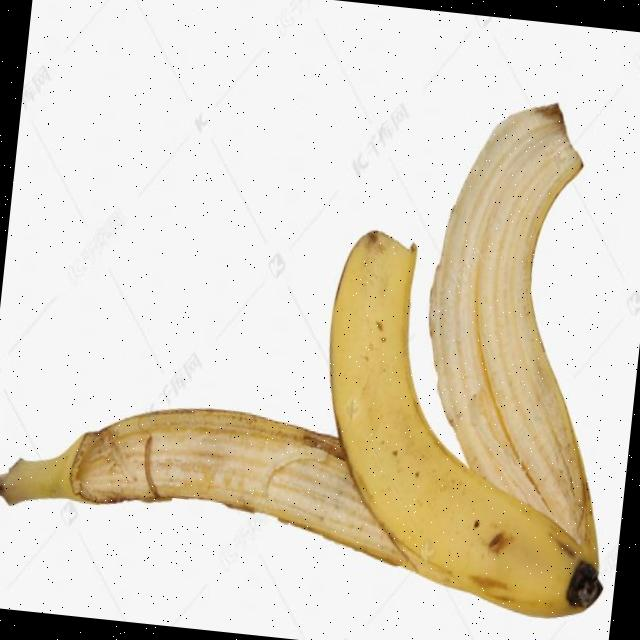banana-peel: (0, 46, 640, 624), (299, 222, 636, 624), (399, 88, 640, 571), (0, 383, 424, 572)
